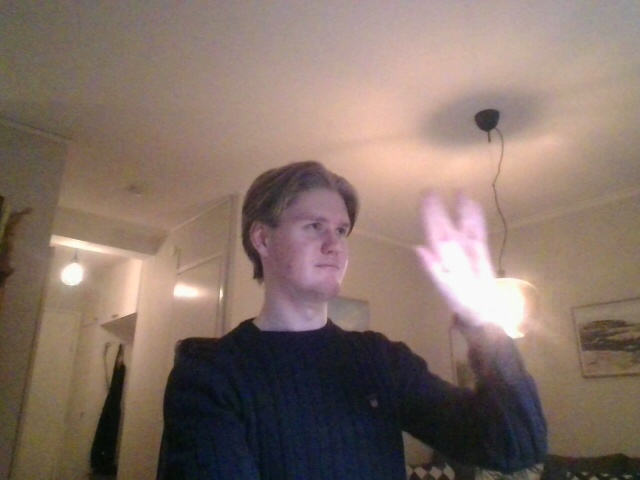LiveLong: (410, 187, 499, 317)
